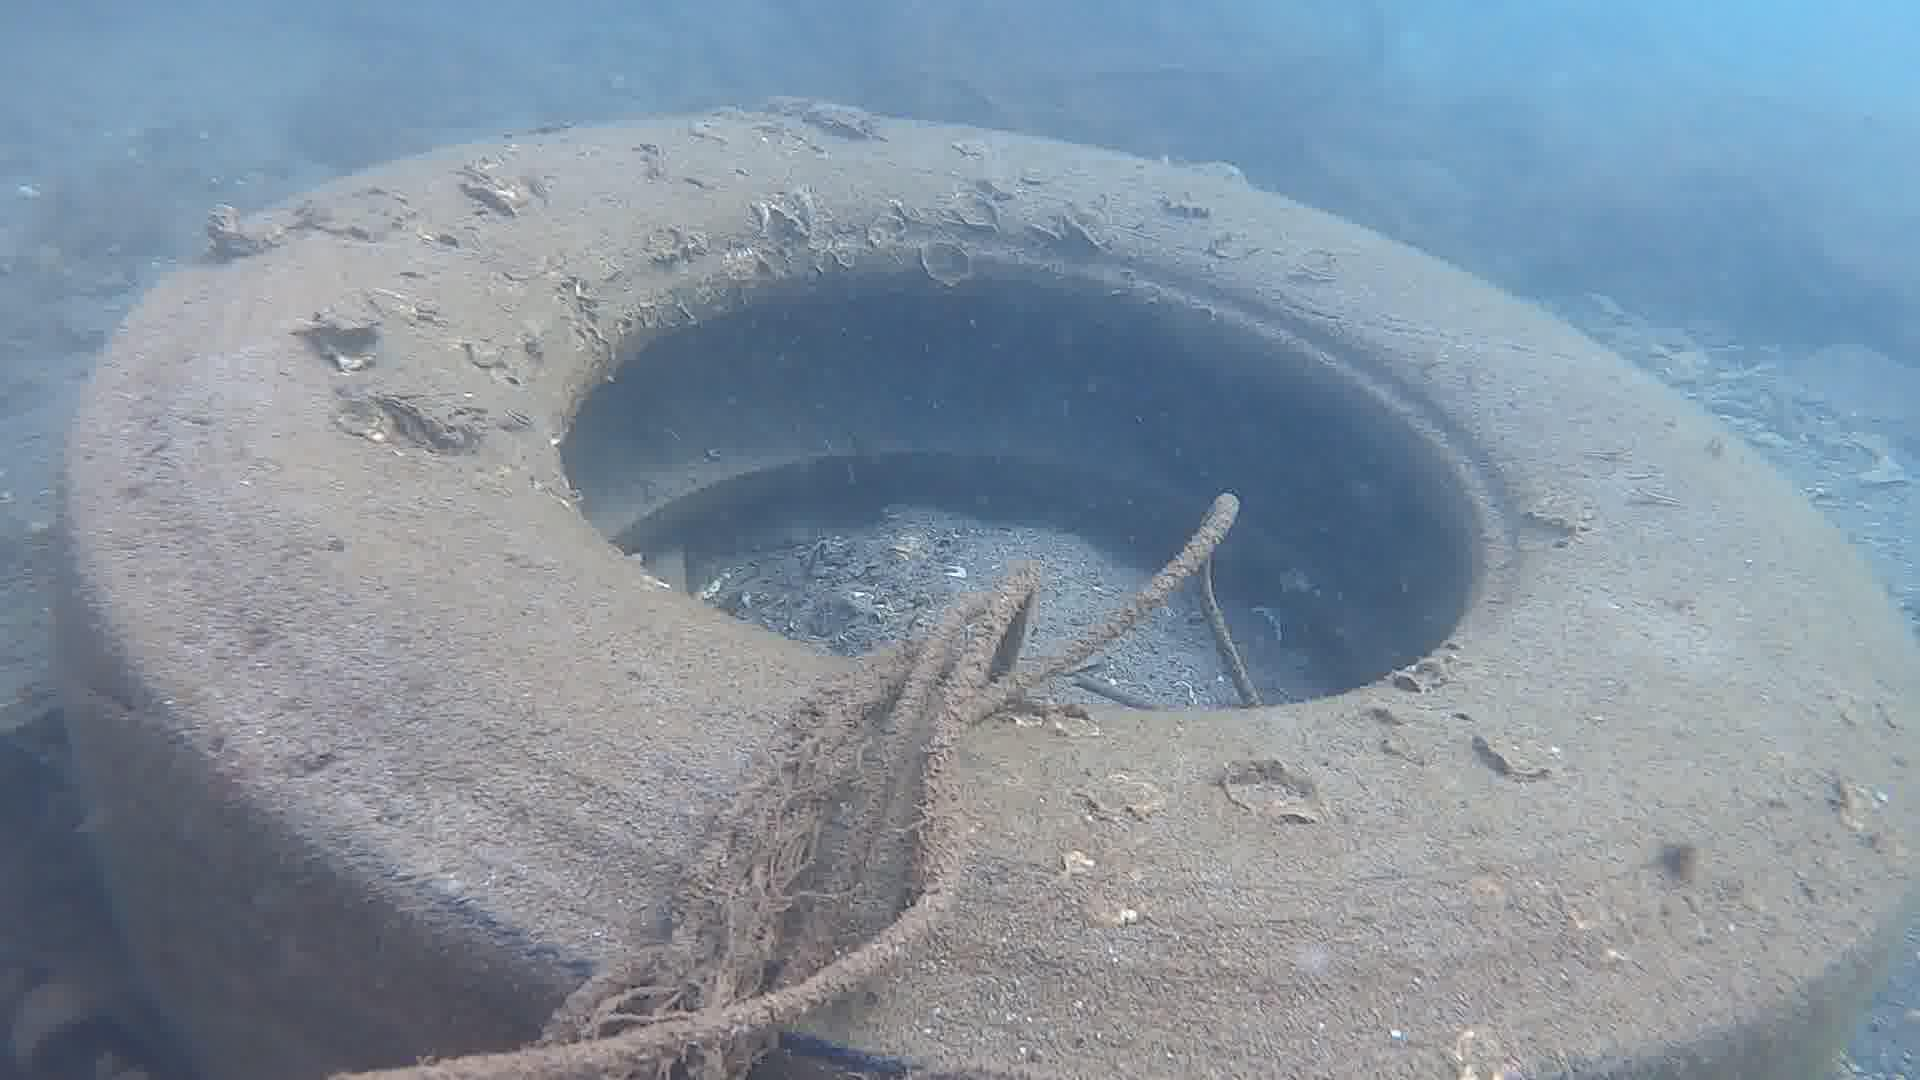bundle of ropes: (323, 489, 1263, 1080)
tire: (54, 102, 1920, 1080)
